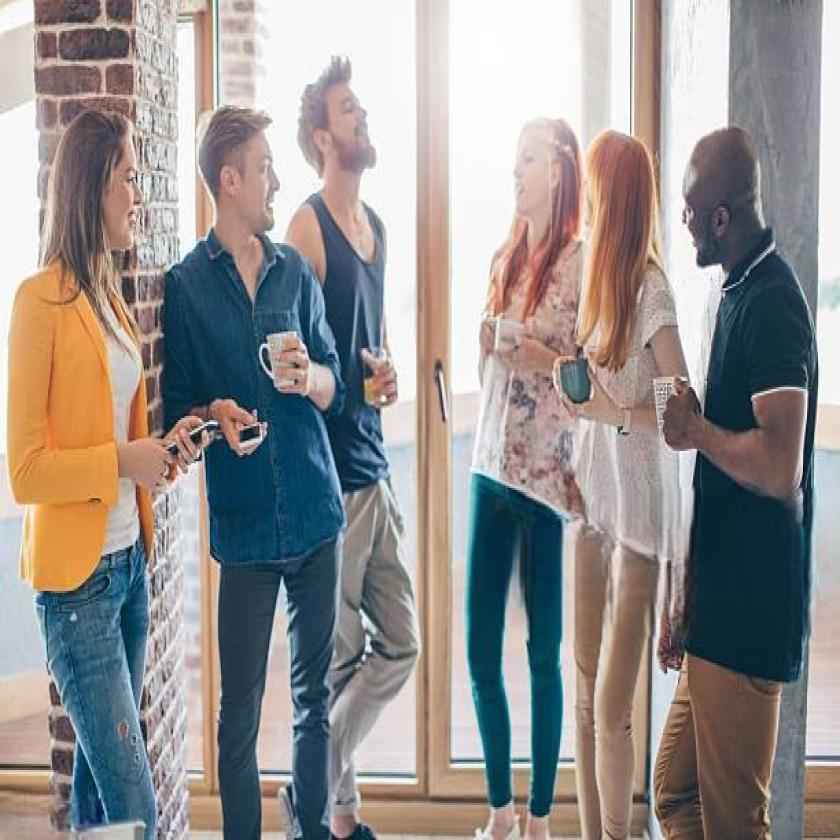Sin_casco: (56, 92, 147, 269), (682, 116, 766, 282), (198, 100, 286, 255), (296, 60, 385, 196), (506, 114, 581, 244)
